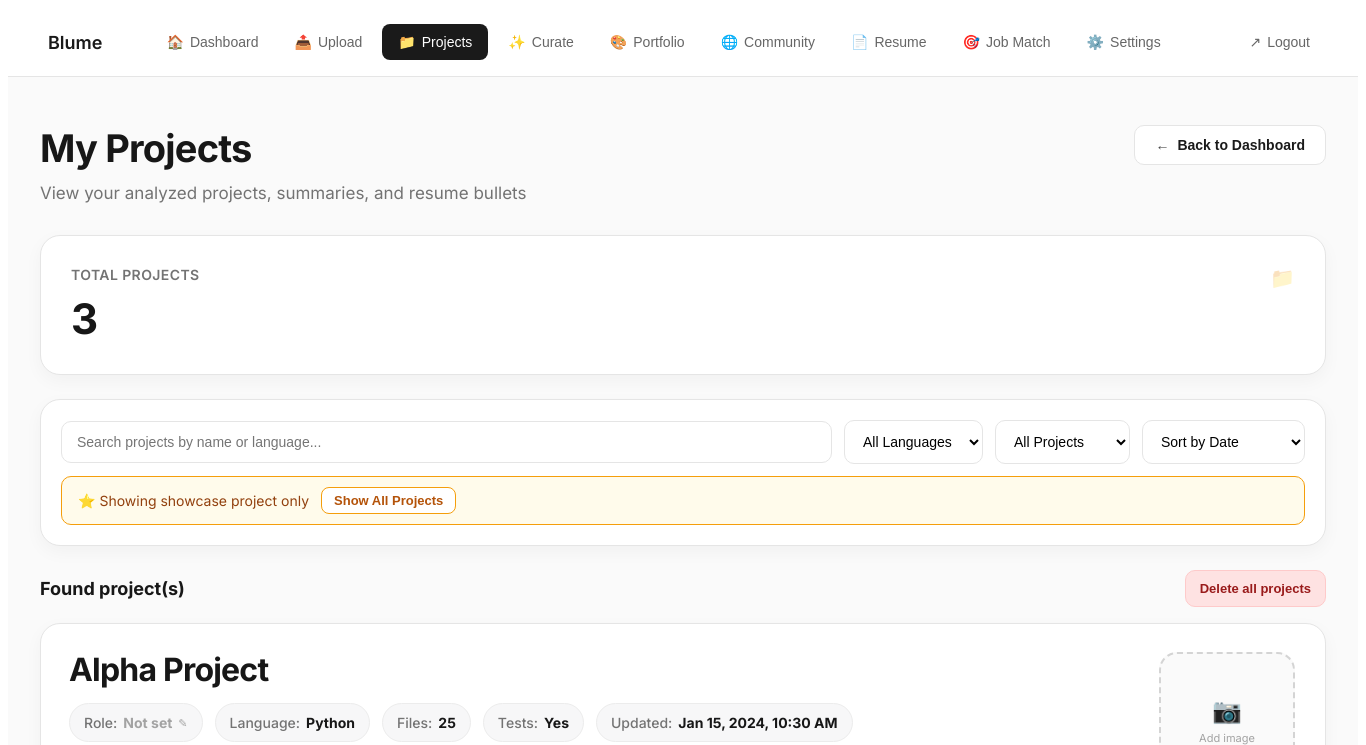
ProjectsPage — Showcase Filter › With showcase filter › clearing the filter shows all projects again
This screenshot has width=1366, height=745.
Expected: the heading "Alpha Project" is shown, x1=69 y1=652 x2=268 y2=687
Note: Click "Show All Projects"
Click the button "Show All Projects" at (389, 500), box x1=321 y1=487 x2=456 y2=514
(page scrolled)
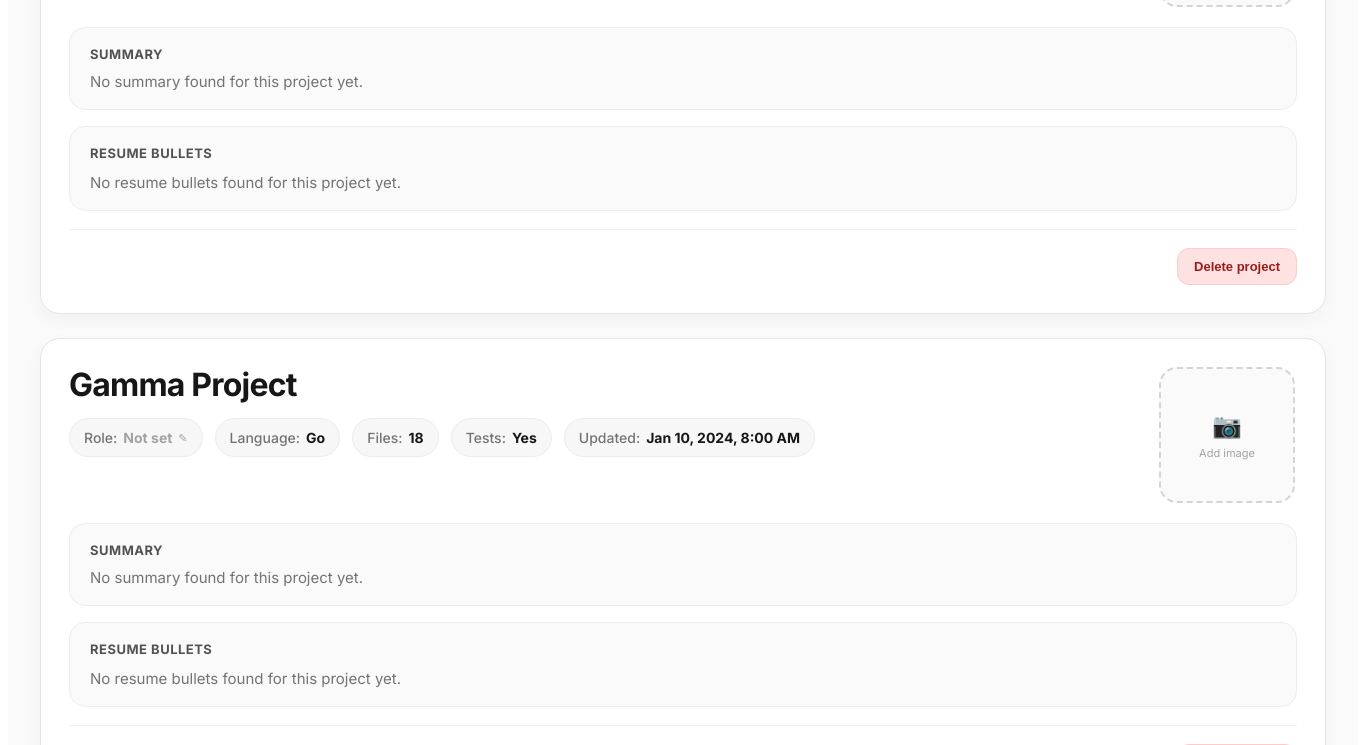
Now the heading "Gamma Project" is shown, box x1=69 y1=367 x2=297 y2=402
Now the text "Showing showcase project only" is gone
